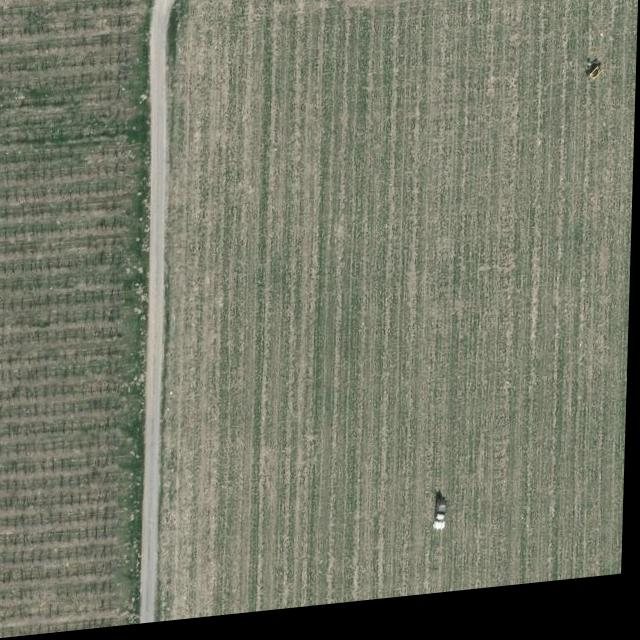vehicle: (437, 509, 452, 541)
